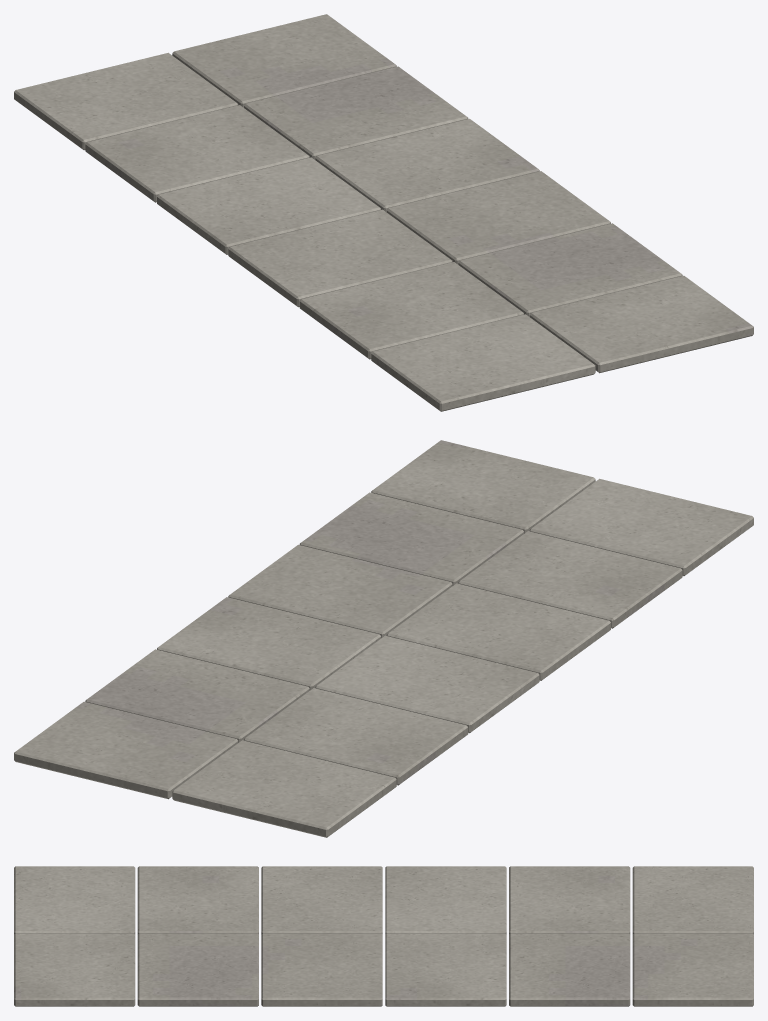
Rendered from path_office.glb.
3 views of the same model, one above another, from view 1: azimuth 30°, elevation 25°; view 2: azimuth 150°, elevation 25°; view 3: azimuth 270°, elevation 25° (orthographic). The views are drawn at different scales.
Parts seen in each view (by area): view 1: path_office_concrete; view 2: path_office_concrete; view 3: path_office_concrete.
Part boxes in pixels (left/top/right/bottom): path_office_concrete: left=14, top=14, right=753, bottom=411; path_office_concrete: left=14, top=440, right=753, bottom=837; path_office_concrete: left=14, top=866, right=753, bottom=1006.
Size of the model in its own units: 1.59 by 0.05 by 3.74.
Materials: 1 (1 with a texture image).
